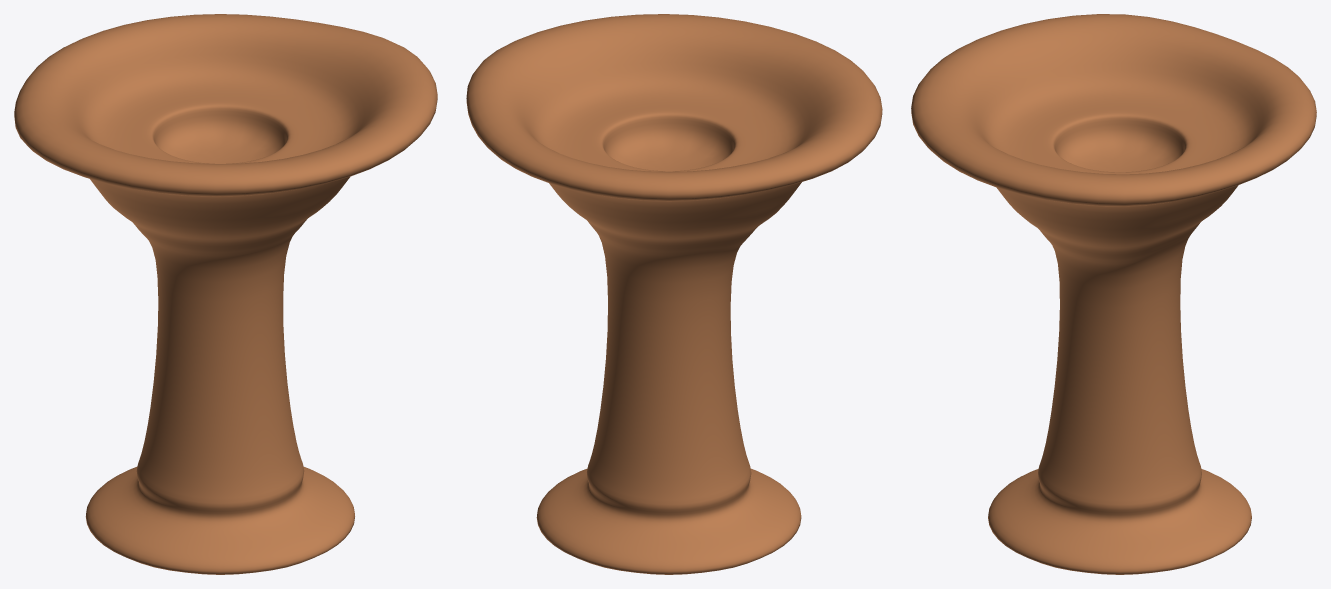
File: TorchLamp.fbx
3 renders of one model, left to right at view 1: azimuth 30°, elevation 25°; view 2: azimuth 150°, elevation 25°; view 3: azimuth 270°, elevation 25°, orthographic. The views are drawn at different scales.
Parts seen in each view (by area): view 1: Cylinder; view 2: Cylinder; view 3: Cylinder.
Part boxes in pixels (box(x1,y1,x2,y2)): Cylinder: box(14, 14, 437, 574); Cylinder: box(466, 14, 882, 574); Cylinder: box(911, 14, 1316, 574).
Bounding box in the file's own units: 122 × 116 × 135.
